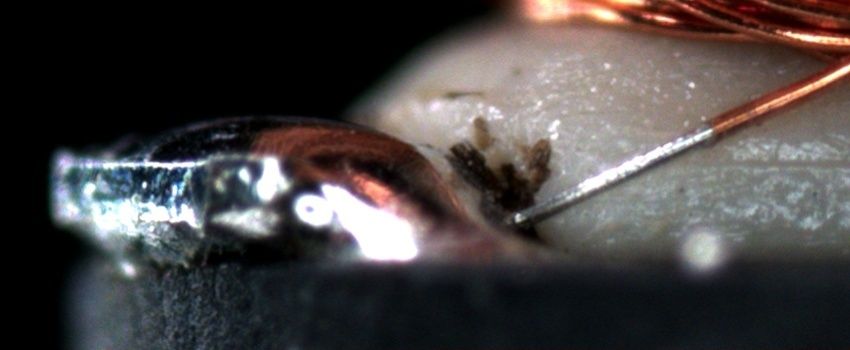DL: (714, 132, 849, 192)
TS: (502, 122, 716, 228)
